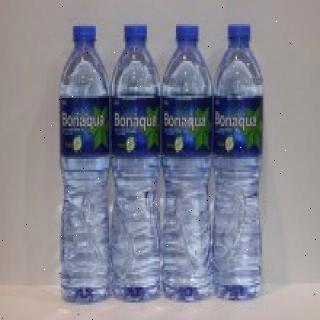Plastic-bottle: (104, 15, 165, 304), (55, 19, 115, 306), (209, 15, 267, 303), (162, 20, 216, 304)
